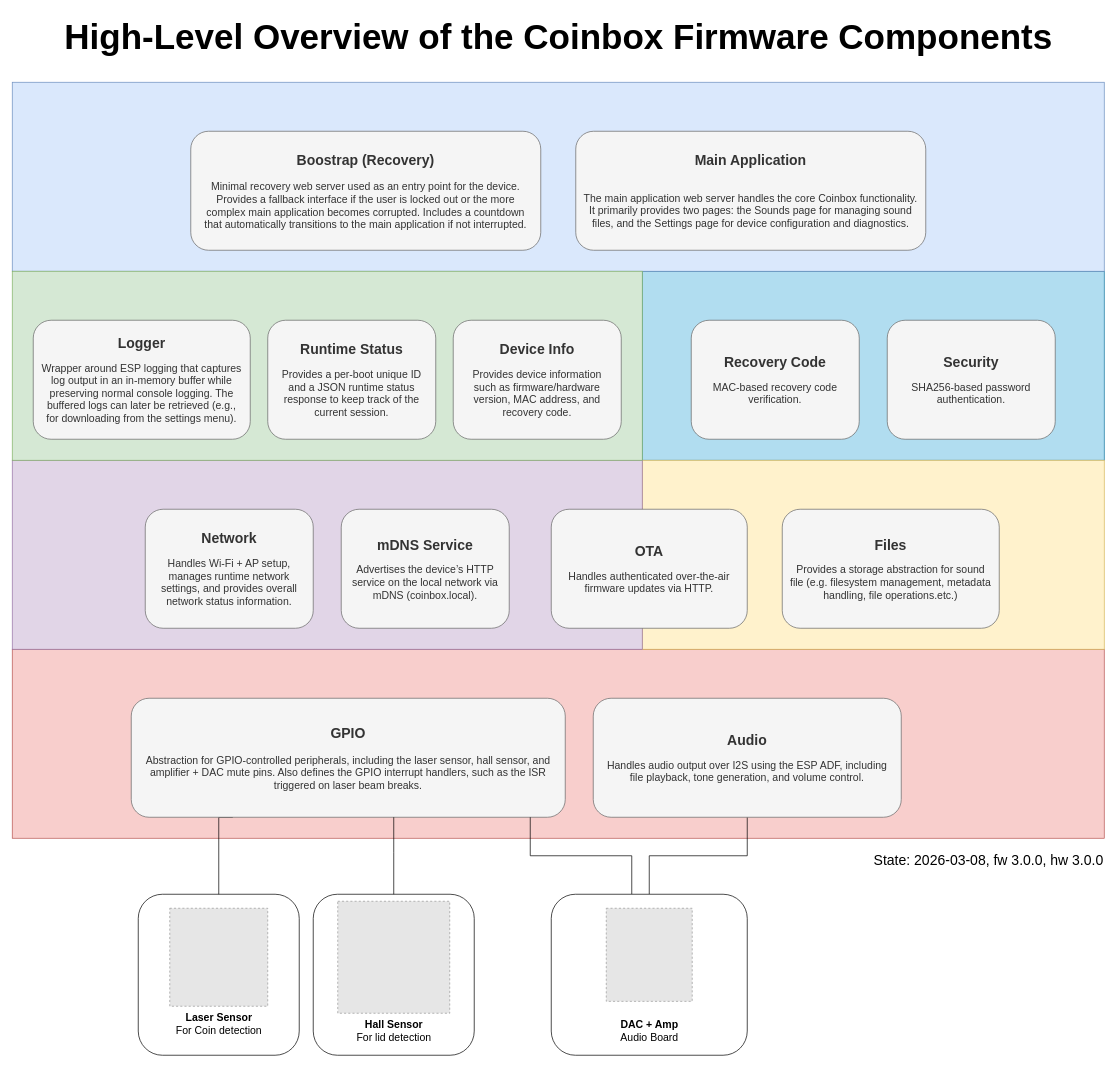
Some shapes in this 1117 by 1068 pixel diagram are drawn without their labels. Grey dashed boxes stand in for pictures. Here are the shapes that lost their labels. From the top down, the box of each, then its label:
(12, 82, 1104, 271): Applications
(12, 271, 642, 460): Support Services
(642, 271, 1104, 460): Trust Services
(12, 460, 642, 649): Connectivity
(642, 460, 1104, 649): File/Storage Services
(12, 649, 1104, 838): Peripheral Services
